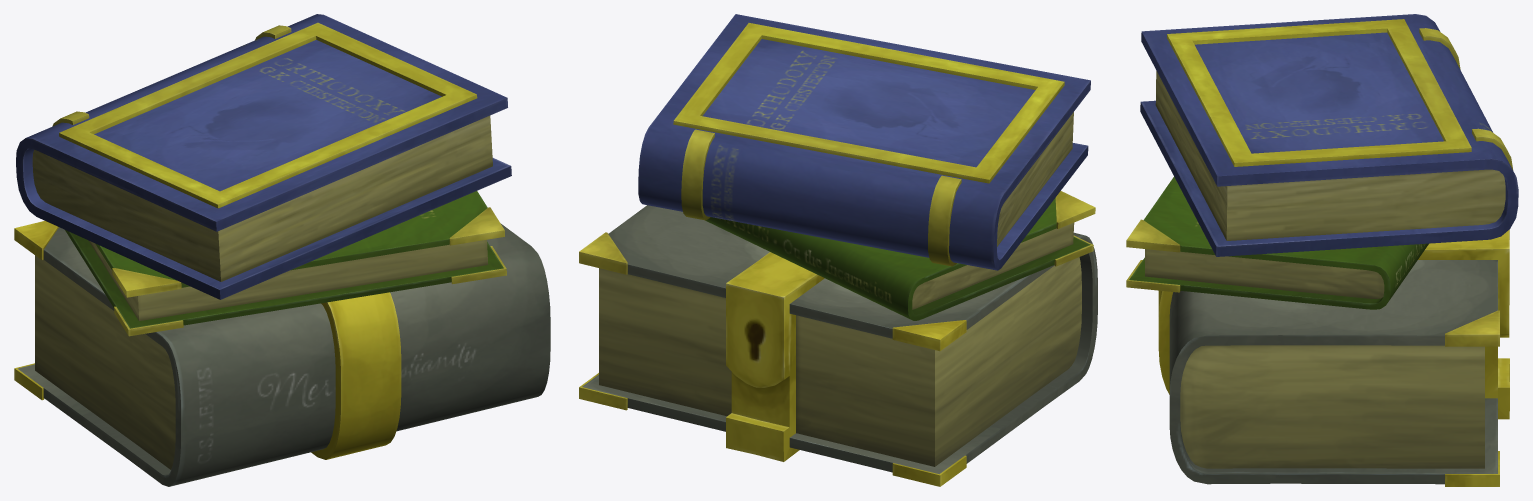
The picture shows the model from 3 angles, left to right: view 1: azimuth 30°, elevation 25°; view 2: azimuth 150°, elevation 25°; view 3: azimuth 270°, elevation 25°; orthographic projection. The views are drawn at different scales.
Visible parts, largest first — view 1: SM_BookBlue3, SM_BookGrey1, SM_BookGreen3; view 2: SM_BookGrey1, SM_BookBlue3, SM_BookGreen3; view 3: SM_BookBlue3, SM_BookGrey1, SM_BookGreen3.
Part boxes in pixels (bbox=[...]): SM_BookBlue3: bbox=[16, 14, 511, 299]; SM_BookGrey1: bbox=[14, 221, 550, 486]; SM_BookGreen3: bbox=[65, 191, 506, 336]; SM_BookGrey1: bbox=[579, 205, 1097, 486]; SM_BookBlue3: bbox=[638, 14, 1090, 270]; SM_BookGreen3: bbox=[705, 191, 1095, 320]; SM_BookBlue3: bbox=[1140, 14, 1518, 256]; SM_BookGrey1: bbox=[1158, 229, 1509, 486]; SM_BookGreen3: bbox=[1126, 176, 1428, 309].
Bounding box in the file's own units: 0.2145 × 0.1592 × 0.1814.
Materials: 1 (1 with a texture image).
